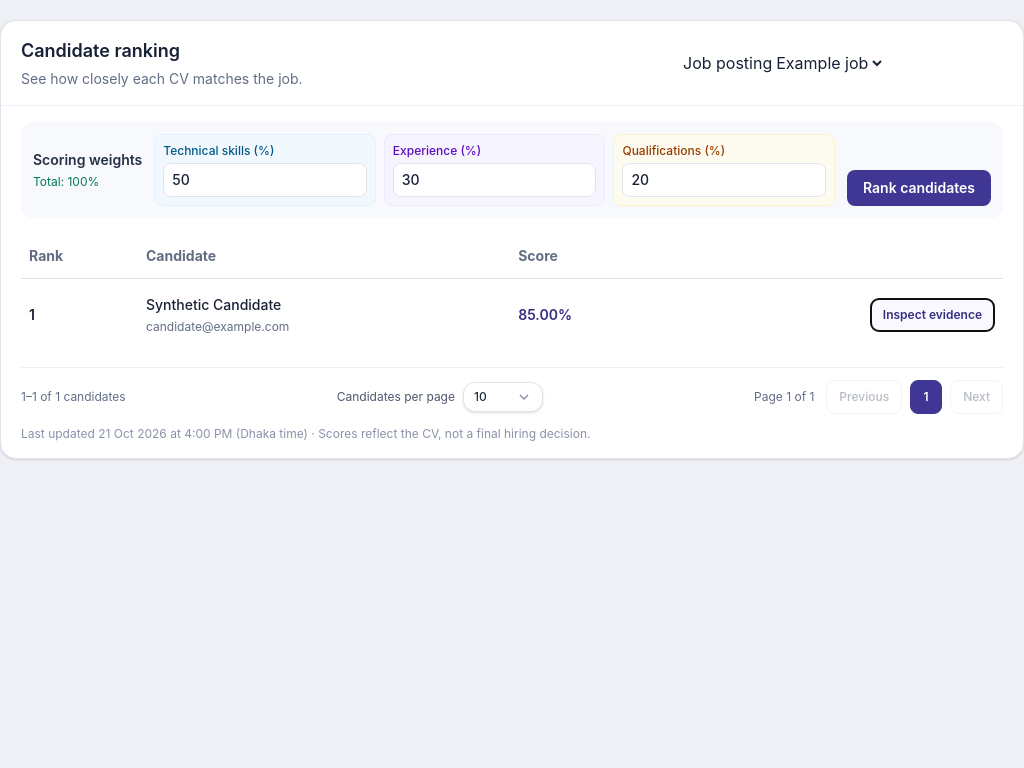
Scenario: opens evidence in a portal modal with colored outcomes and restores focus on closing
This screenshot has width=1024, height=768.
What coordinates should you click on to do the following:
click the button named "Inspect evidence for Synthetic Candidate"
I would click on:
 (932, 315)
Its box is [870,298,995,332].
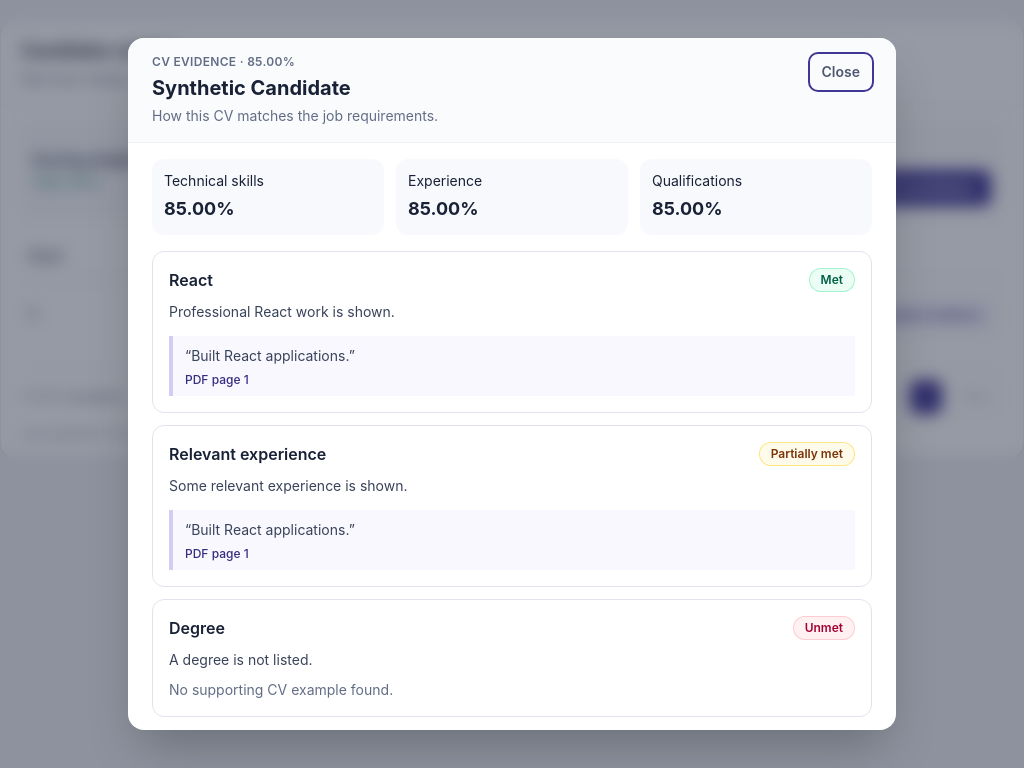
What coordinates should you click on to do the following:
click the button named "Close evidence"
I would click on:
 (841, 72)
Its box is [810,54,872,90].
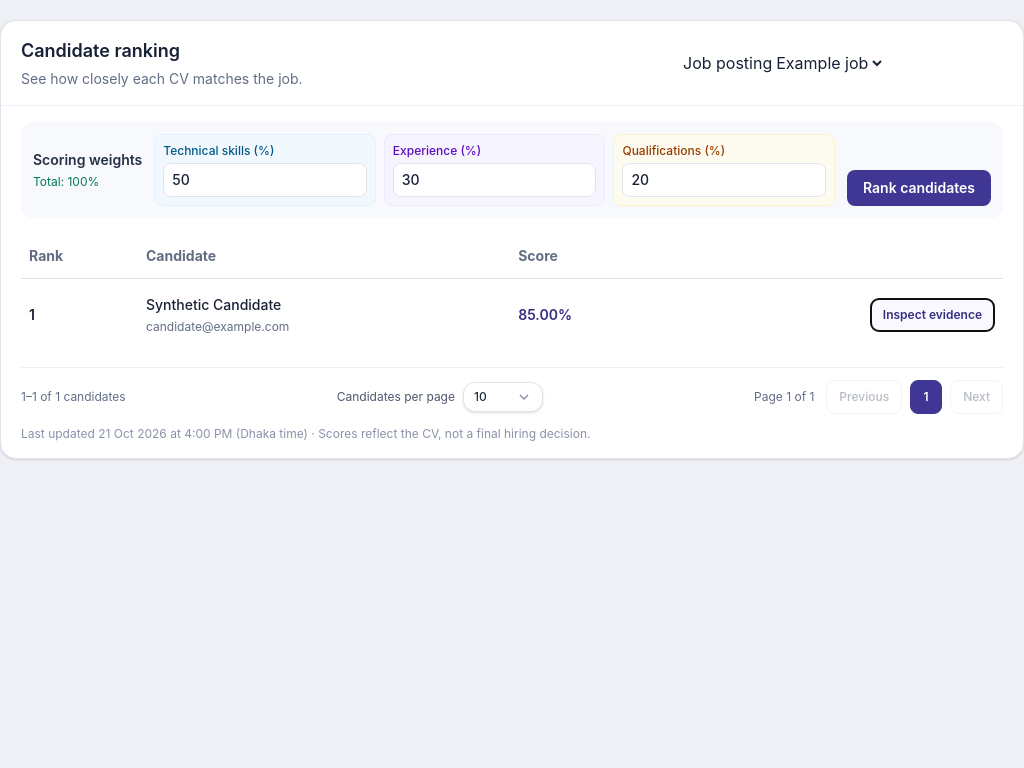
Result: the dialog is gone
